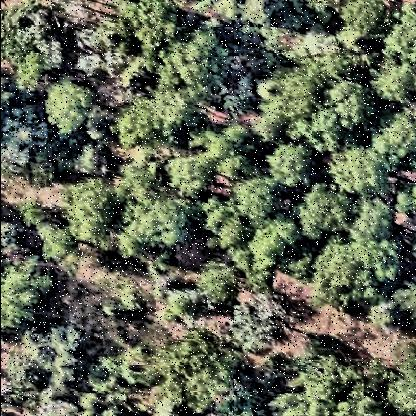tree-top: (261, 338, 385, 416), (149, 26, 230, 138), (153, 326, 234, 416), (308, 240, 404, 305), (8, 5, 65, 91), (1, 262, 57, 339), (229, 293, 293, 357), (328, 147, 398, 199), (68, 174, 116, 246), (299, 186, 359, 242), (45, 77, 98, 137), (258, 69, 324, 117), (334, 1, 394, 50), (346, 193, 400, 246), (326, 77, 378, 132), (123, 202, 187, 246), (268, 137, 323, 186), (130, 1, 180, 53), (165, 153, 217, 202), (110, 97, 155, 153), (234, 172, 278, 228), (286, 110, 349, 148), (23, 337, 74, 383), (198, 259, 244, 306), (377, 112, 416, 166), (249, 230, 295, 272), (33, 224, 77, 267), (373, 61, 413, 107), (387, 354, 416, 416), (383, 19, 416, 69), (164, 292, 209, 321), (368, 299, 405, 333)
